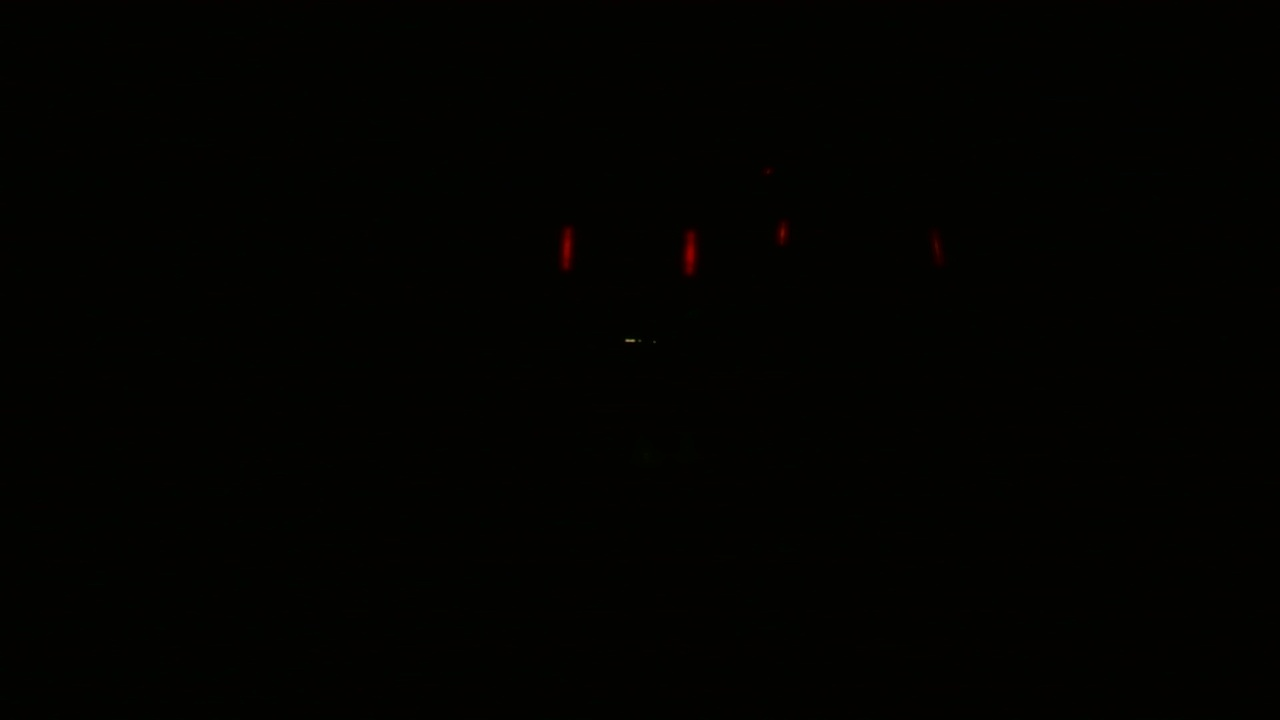pair1: (559, 219, 696, 279)
